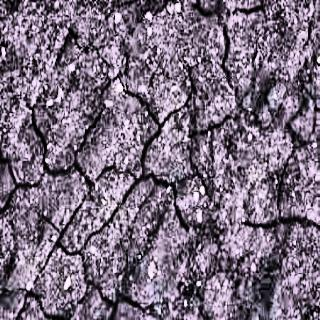alligator-crack: (10, 42, 296, 314)
